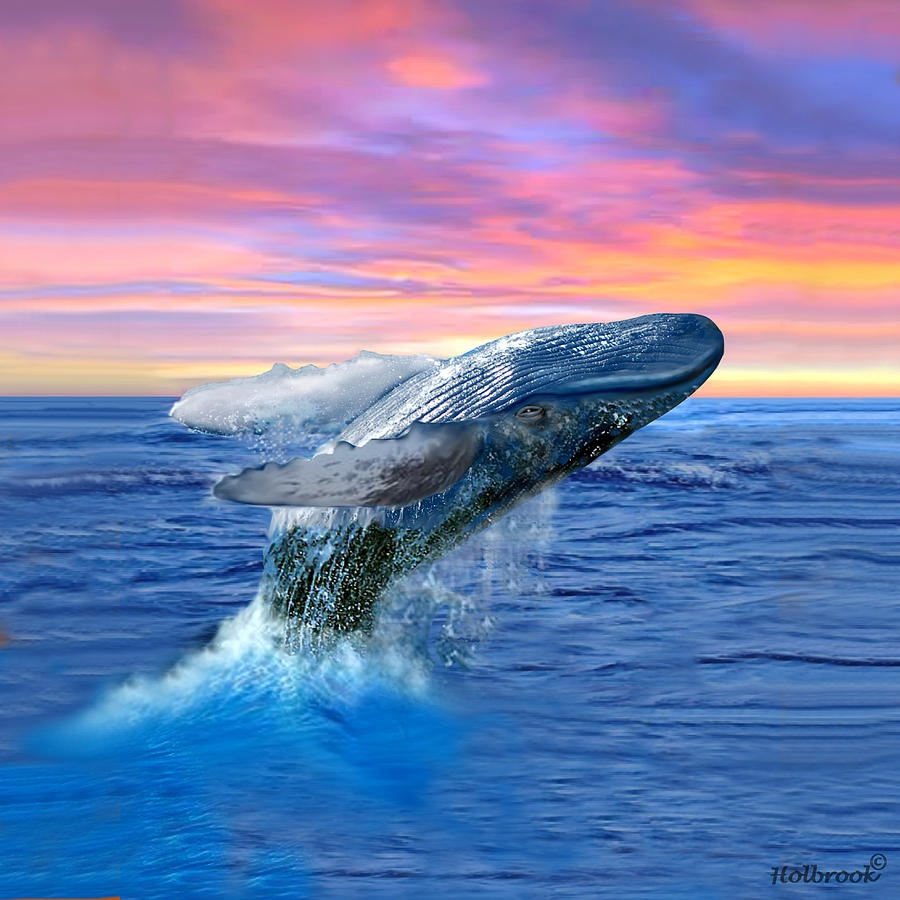humpback: (252, 306, 724, 656)
